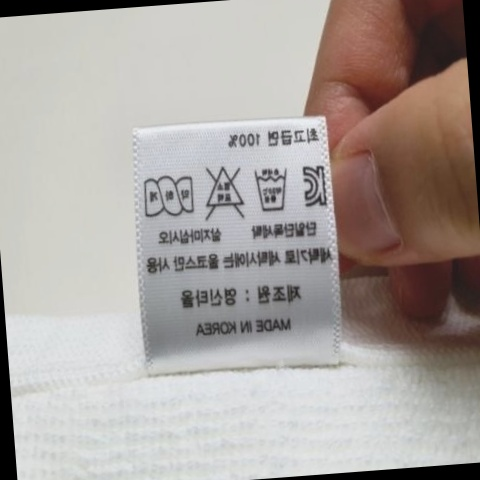hand_wash: (248, 165, 292, 217)
non_chlorine_bleach: (198, 160, 248, 224)
wring: (141, 173, 198, 220)
